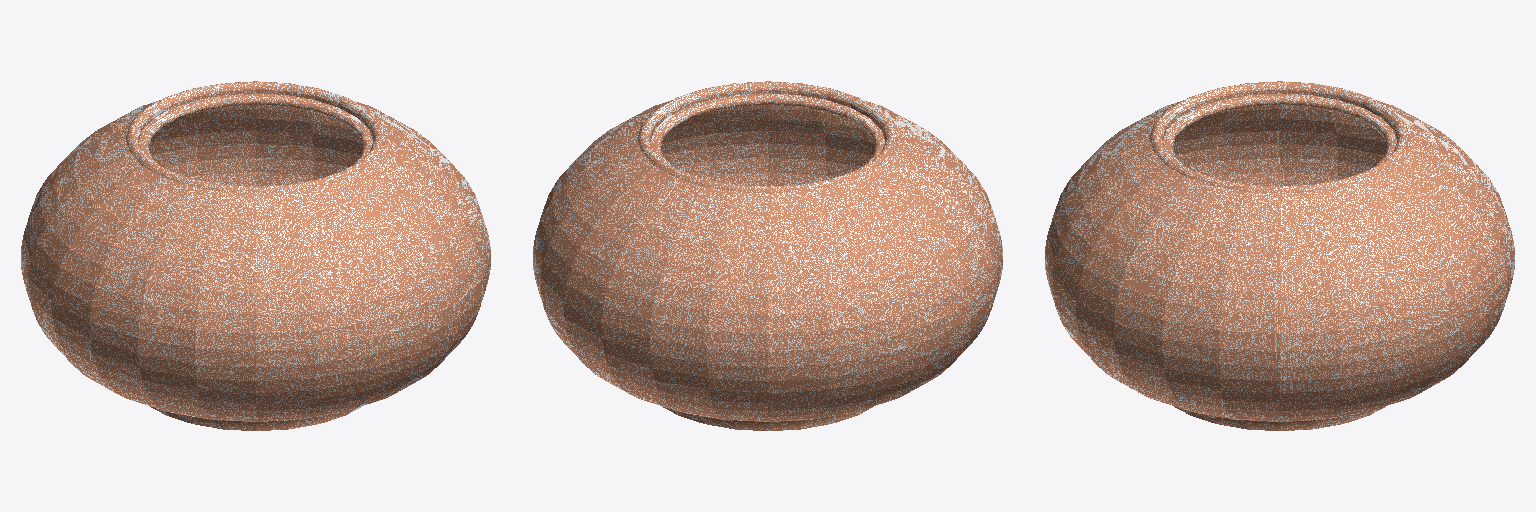
The model's file is original-5.obj.
3 renders of one model, left to right at view 1: azimuth 30°, elevation 25°; view 2: azimuth 150°, elevation 25°; view 3: azimuth 270°, elevation 25°, orthographic.
Parts seen in each view (by area): view 1: mesh8/mesh8-geometry#mesh8-geometry; view 2: mesh8/mesh8-geometry#mesh8-geometry; view 3: mesh8/mesh8-geometry#mesh8-geometry.
Boxes of the visible parts, box(x1,y1,x2,y2) form: mesh8/mesh8-geometry#mesh8-geometry: box(21, 81, 490, 430); mesh8/mesh8-geometry#mesh8-geometry: box(533, 81, 1002, 430); mesh8/mesh8-geometry#mesh8-geometry: box(1045, 81, 1514, 430).
Size of the model in its own units: 1.06 by 0.6038 by 1.06.